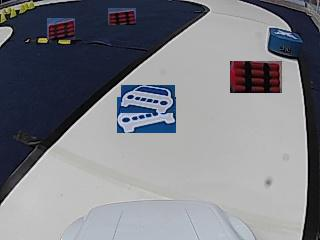prop: (268, 28, 303, 59)
